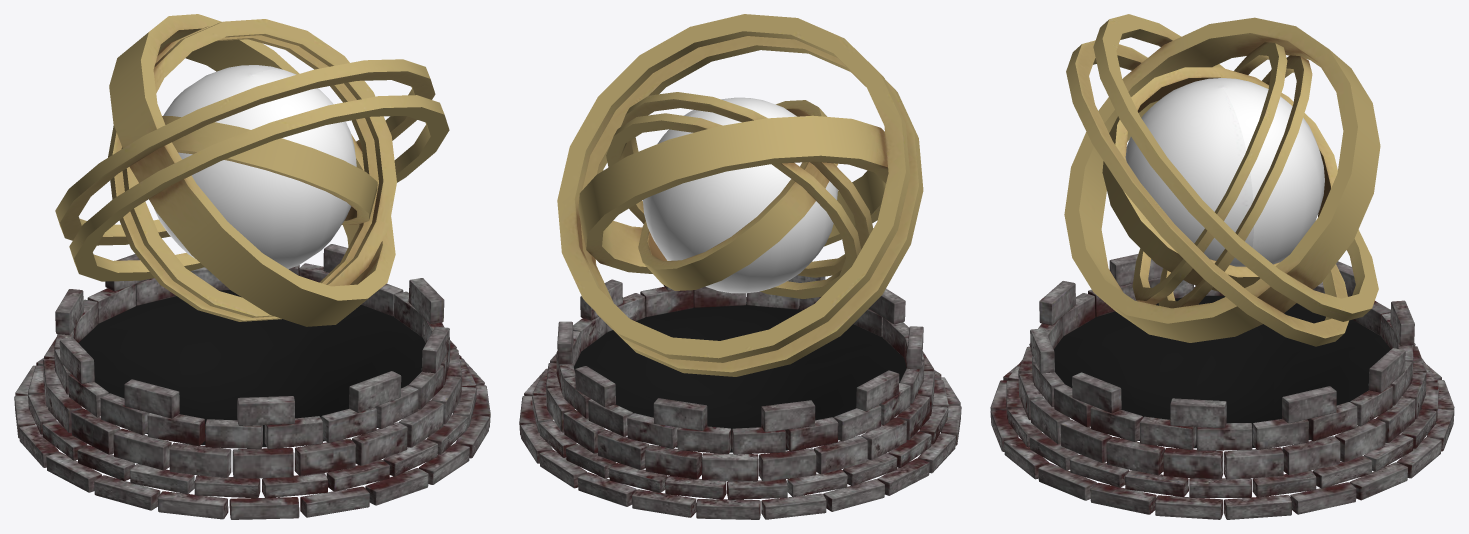
Rendered from Spinning_Rings.glb.
3 views of the same model, side by side, from view 1: azimuth 30°, elevation 25°; view 2: azimuth 150°, elevation 25°; view 3: azimuth 270°, elevation 25° (orthographic). The views are drawn at different scales.
Visible parts, largest first — view 1: brick_base_low, disk_low, ring_4_low, ring_3_low, inner_spere_low, ring_2_low, ring_1_low; view 2: brick_base_low, ring_3_low, disk_low, ring_4_low, inner_spere_low, ring_2_low, ring_1_low; view 3: brick_base_low, ring_4_low, disk_low, ring_3_low, inner_spere_low, ring_2_low, ring_1_low.
Boxes of the visible parts, x1=… form: brick_base_low: x1=14, y1=244, x2=490, y2=519; disk_low: x1=78, y1=290, x2=425, y2=447; ring_4_low: x1=109, y1=14, x2=395, y2=326; ring_3_low: x1=55, y1=59, x2=449, y2=281; inner_spere_low: x1=154, y1=65, x2=356, y2=269; ring_2_low: x1=108, y1=19, x2=396, y2=321; ring_1_low: x1=162, y1=116, x2=377, y2=224; brick_base_low: x1=519, y1=275, x2=961, y2=519; ring_3_low: x1=557, y1=14, x2=923, y2=376; disk_low: x1=574, y1=302, x2=906, y2=452; ring_4_low: x1=578, y1=115, x2=888, y2=273; inner_spere_low: x1=643, y1=97, x2=837, y2=293; ring_2_low: x1=606, y1=92, x2=873, y2=298; ring_1_low: x1=638, y1=100, x2=837, y2=290; brick_base_low: x1=990, y1=254, x2=1454, y2=519; ring_4_low: x1=1064, y1=17, x2=1380, y2=342; disk_low: x1=1054, y1=296, x2=1390, y2=448; ring_3_low: x1=1066, y1=14, x2=1378, y2=346; inner_spere_low: x1=1125, y1=78, x2=1324, y2=266; ring_2_low: x1=1132, y1=42, x2=1312, y2=308; ring_1_low: x1=1102, y1=67, x2=1337, y2=291.
Size of the model in its own units: 329 by 300 by 328.
Materials: 7 (7 with a texture image).
